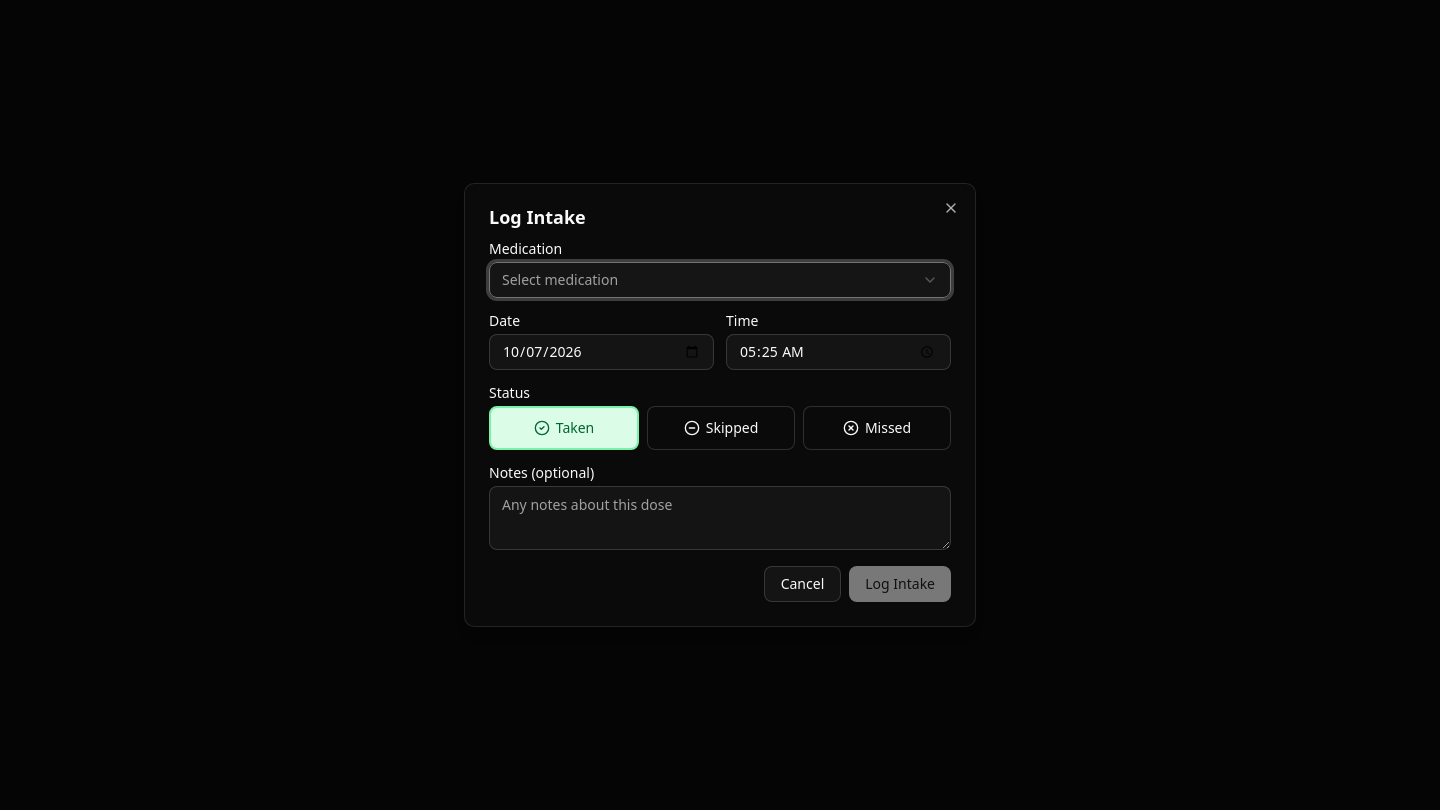
Scenario: LogIntakeDialog › changing medication from Injection→Pill hides injection section and clears site
The image size is (1440, 810).
Click the dropdown labelled "Select medication": (560, 280) 489,262 -> 951,298
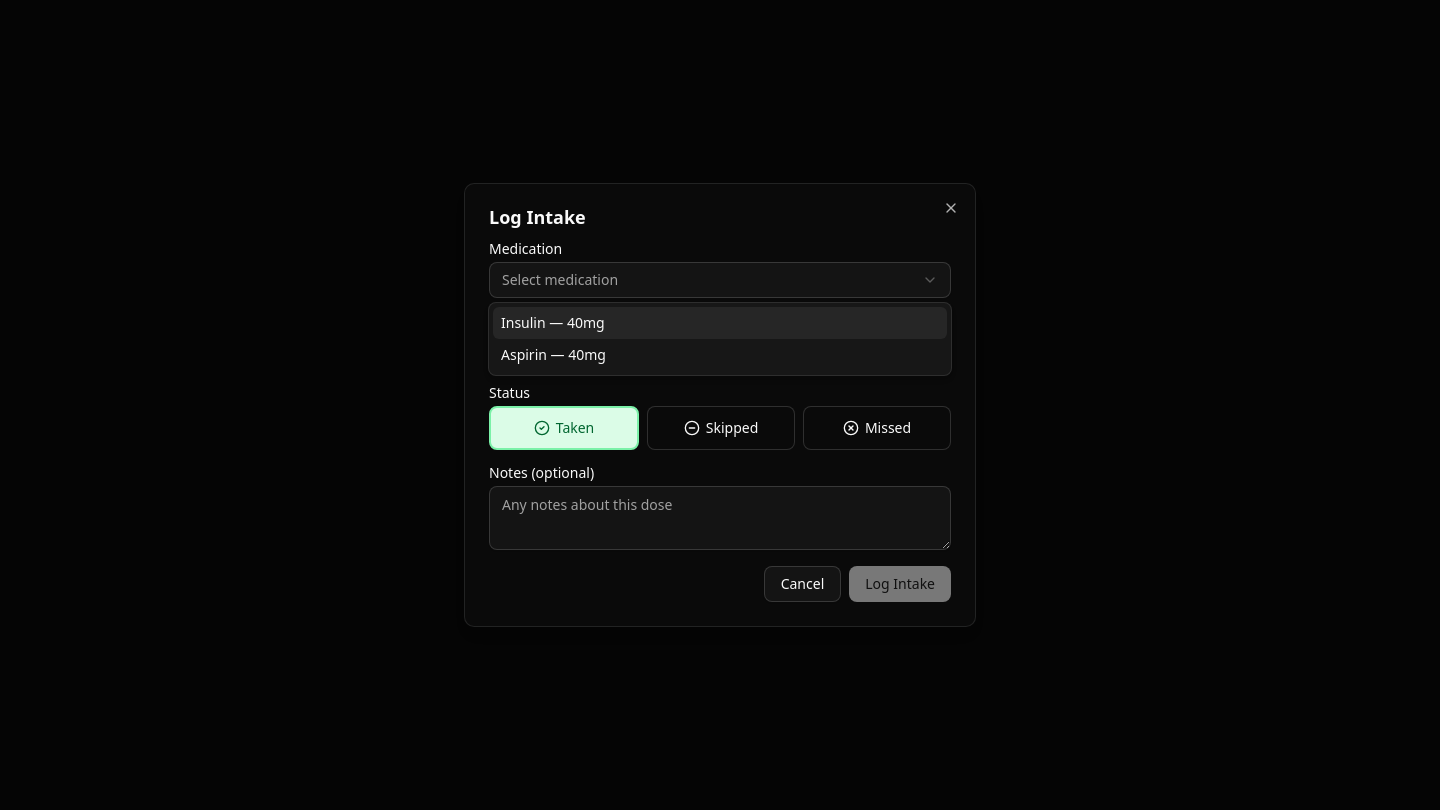
Click the option "Insulin — 40mg": (523, 322) 493,307 -> 947,339
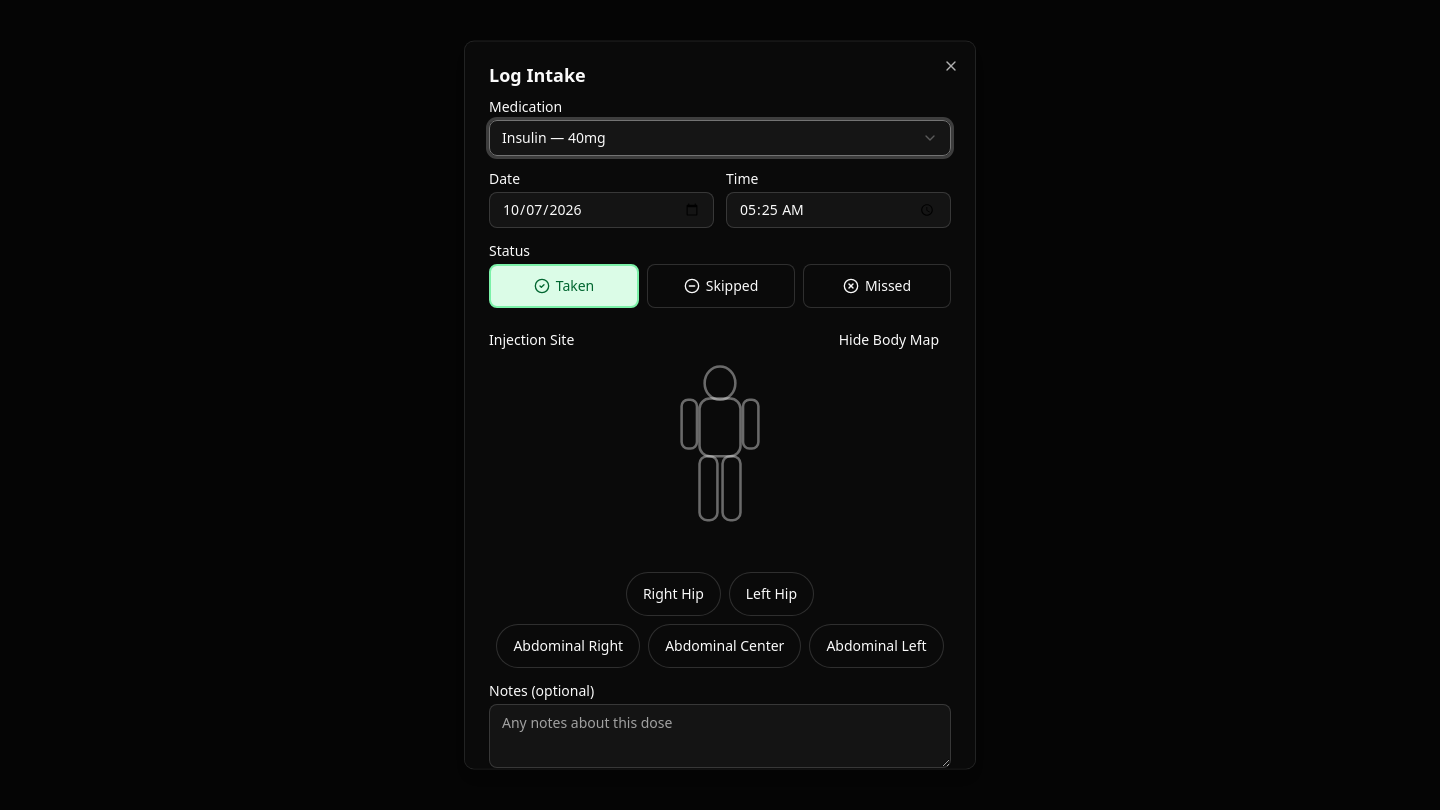
Expected: the text "Injection Site" is shown, 489,332 -> 574,346
Click the dropdown named "medication": (524, 137) 489,120 -> 951,156
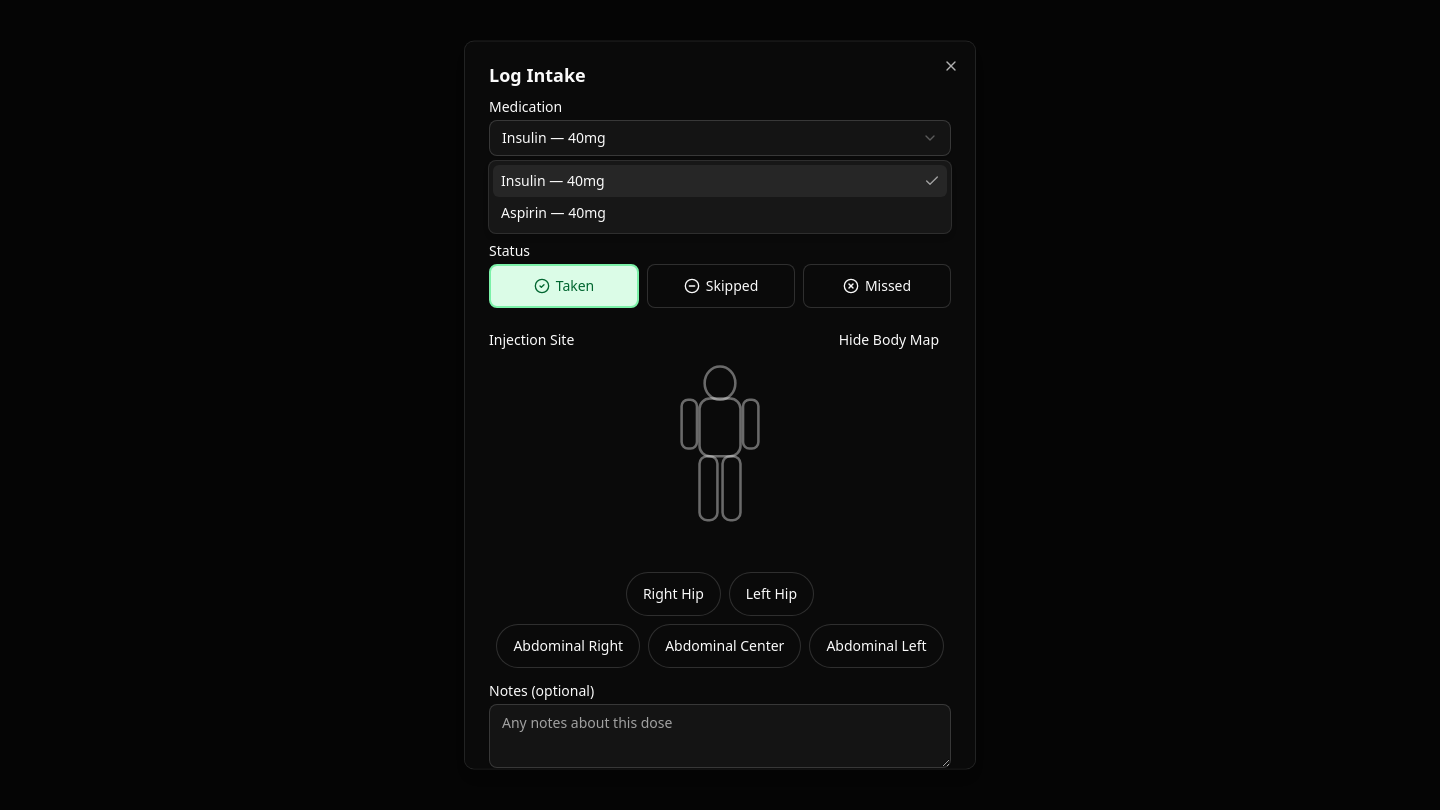
Click the option "Aspirin — 40mg": (553, 212) 501,203 -> 606,222
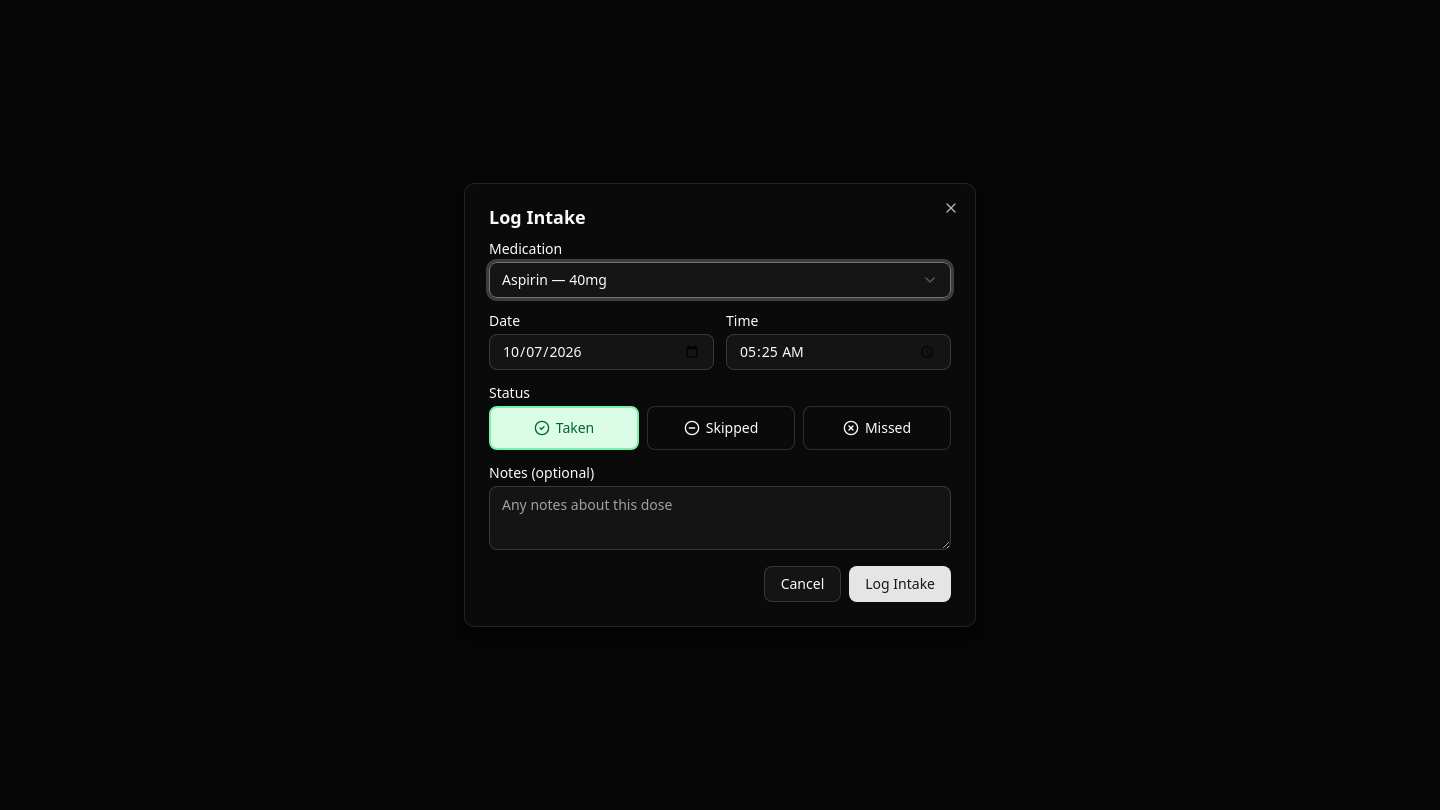
Expected: the text "Injection Site" is gone
